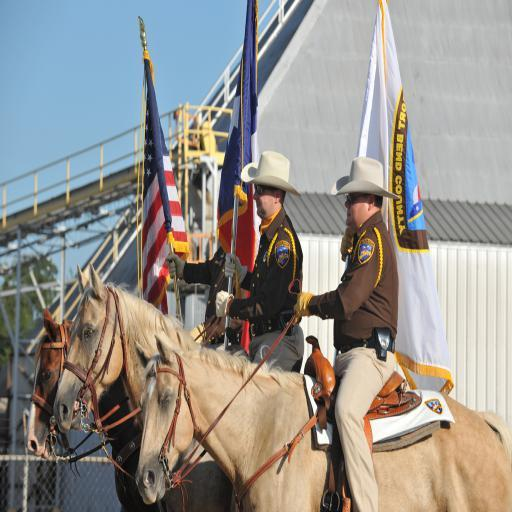Horse: (134, 332, 512, 509), (52, 262, 250, 512), (29, 310, 167, 508)
